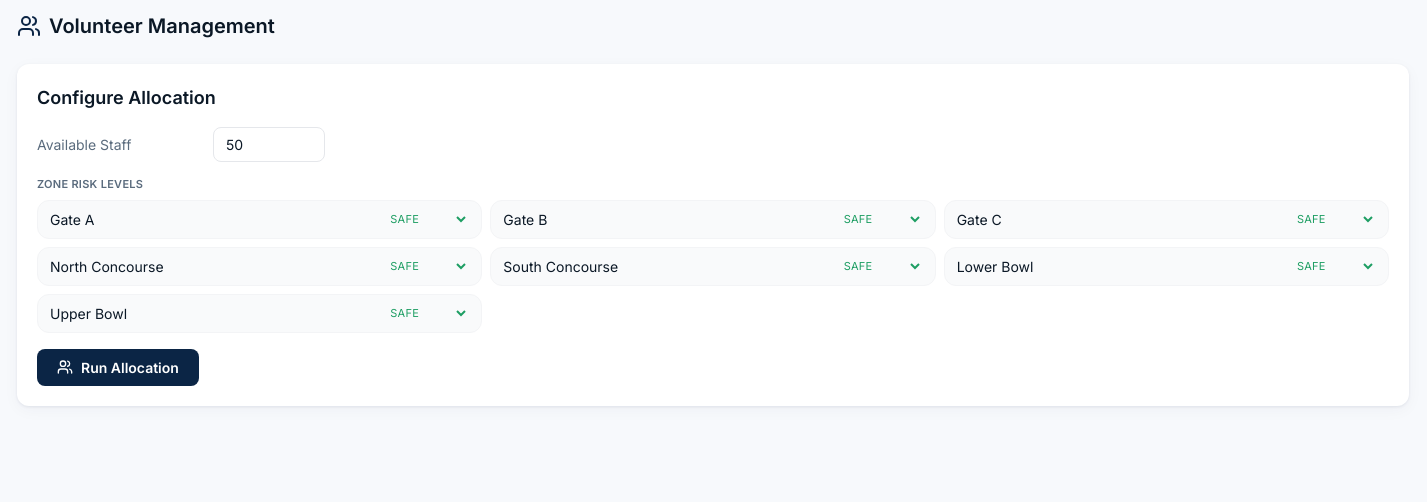
Test: VolunteerPanel › displays error message on fetch failure
Click the button "Run Allocation" at (118, 367), box [37,349,199,386]
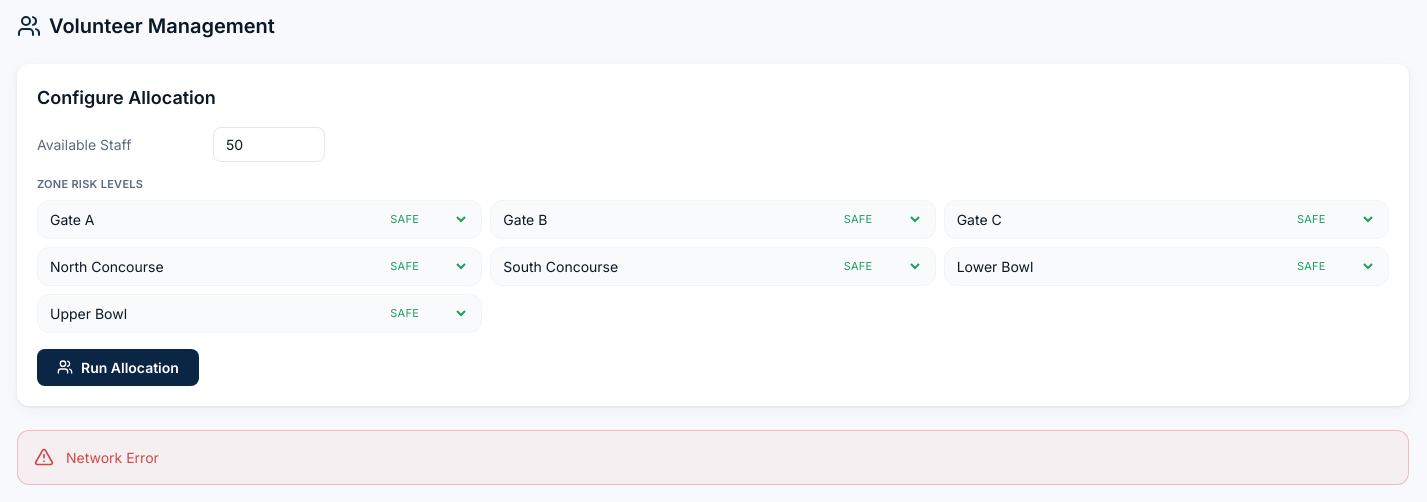
Expected: the text "Network Error" is shown, [66,447,159,468]
